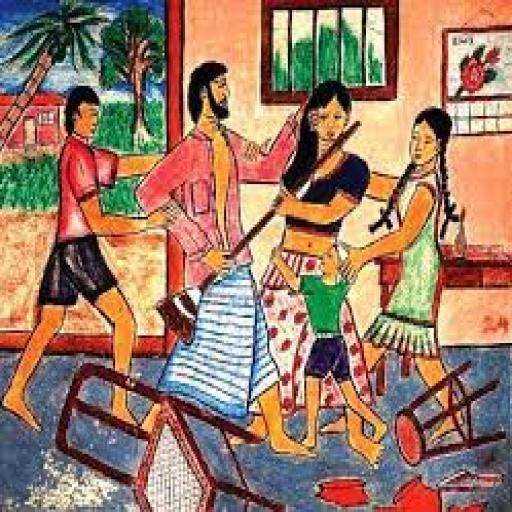person: (133, 48, 298, 464), (0, 77, 150, 436), (264, 75, 403, 461), (345, 110, 482, 441), (275, 236, 397, 457)
